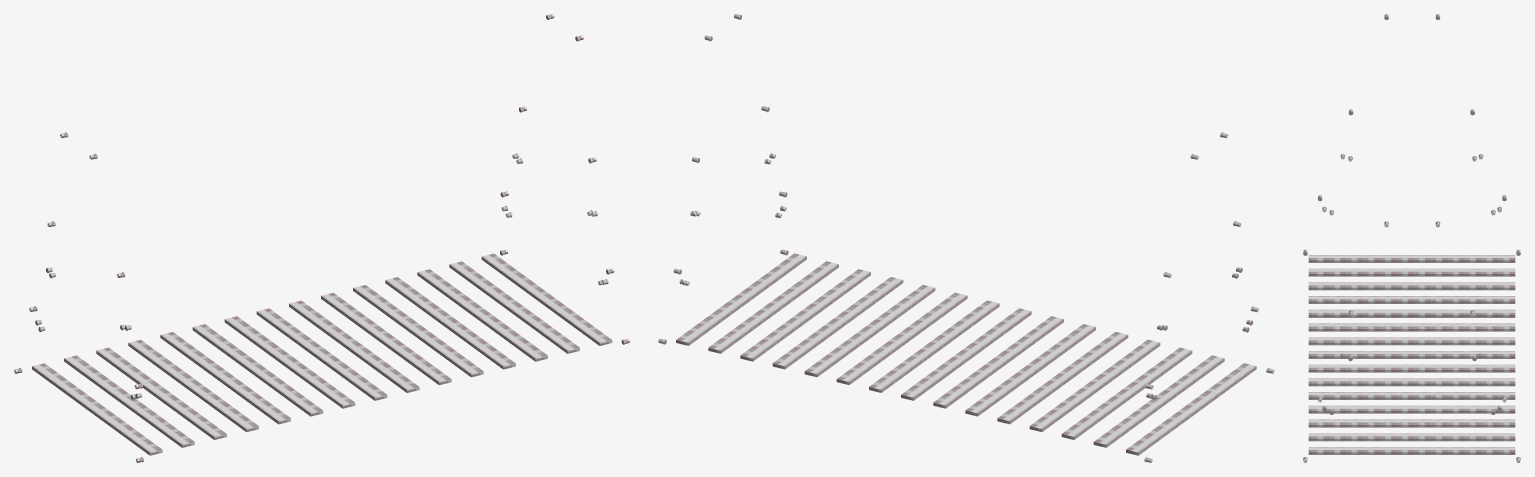
Rendered from BED.glb.
3 views of the same model, side by side, from view 1: azimuth 30°, elevation 25°; view 2: azimuth 150°, elevation 25°; view 3: azimuth 270°, elevation 25° (orthographic). The views are drawn at different scales.
Visible parts, largest first — view 1: Bed_Wood, Bed_Metall; view 2: Bed_Wood, Bed_Metall; view 3: Bed_Wood, Bed_Metall.
Boxes of the visible parts, box(x1,y1,x2,y2) form: Bed_Wood: box(32, 253, 612, 455); Bed_Metall: box(14, 14, 629, 462); Bed_Wood: box(676, 253, 1256, 455); Bed_Metall: box(658, 14, 1274, 462); Bed_Wood: box(1308, 255, 1515, 454); Bed_Metall: box(1303, 14, 1520, 462).
Size of what is drawn, in the model's own units: 0.1916 by 0.102 by 0.0839.
Materials: 1 (1 with a texture image).
